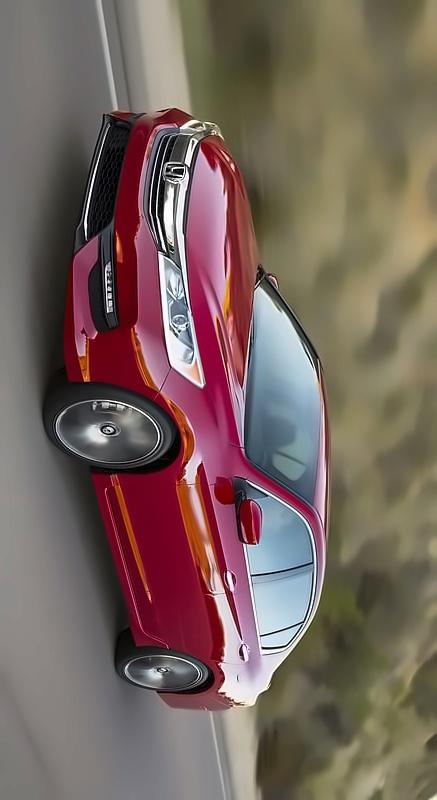Car hood: (178, 131, 261, 446)
Fender - -F-L-: (86, 371, 253, 490)
Fender - -R-L-: (136, 641, 278, 699)
Front bumper: (55, 95, 176, 399)
Headlight - -L-: (151, 245, 211, 395)
Headlight - -R-: (174, 110, 231, 150)
Passenger-s door - -F-L-: (104, 481, 326, 591)
Passenger-s door - -R-L-: (134, 592, 326, 666)
Rear bumper: (136, 680, 225, 727)
Side bumper - -L-: (83, 460, 148, 655)
Side mirror - -L-: (231, 484, 271, 552)
Side mirror - -R-: (254, 258, 289, 294)
